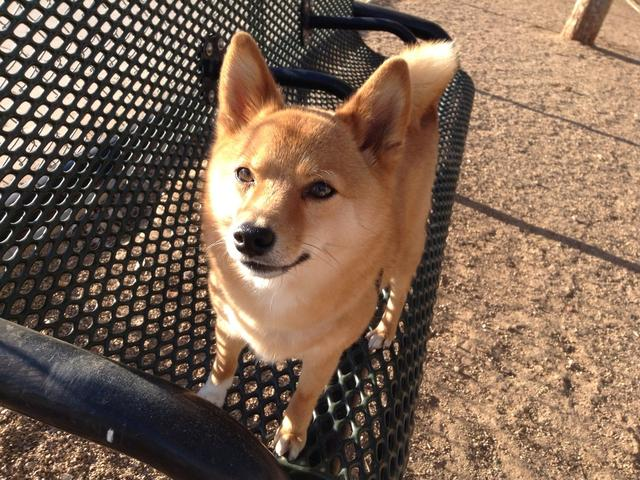dog: (170, 12, 441, 426)
